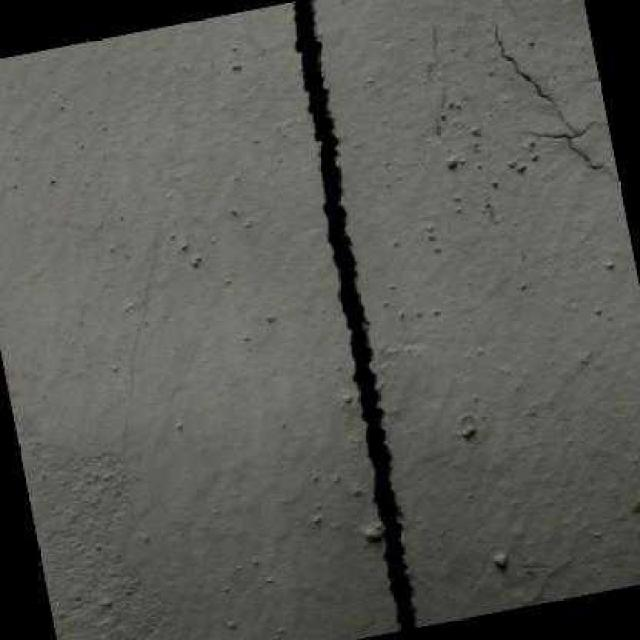D00: (291, 0, 420, 631)
